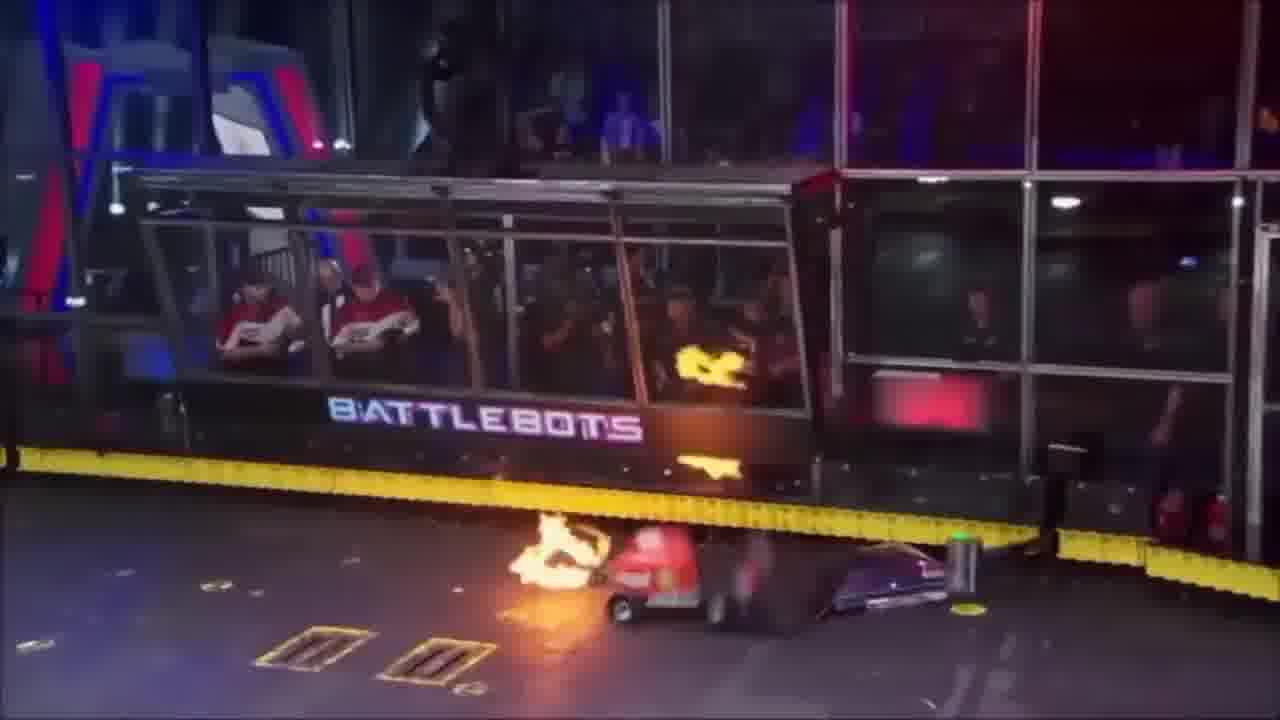combatbot: (581, 523, 778, 627), (831, 529, 993, 623)
